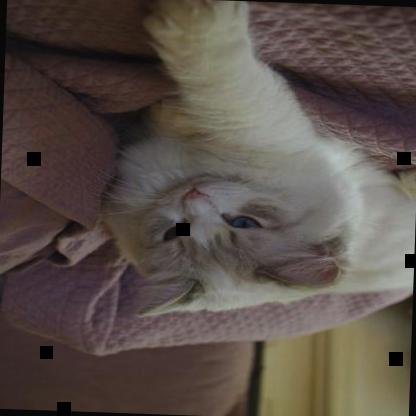cat: (100, 0, 415, 325)
